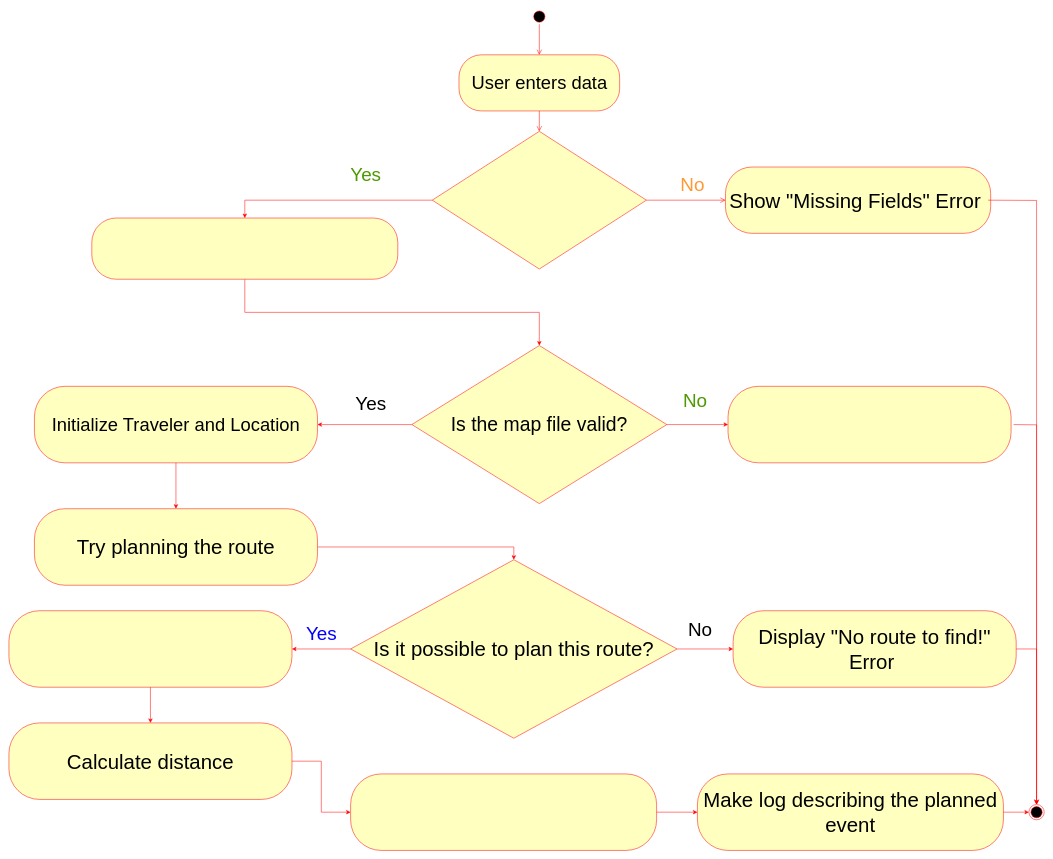
Image size: 1053x859. Some labels were removed from this diagram. Here are the shapes that lost their labels. From the top down, the centre of each, then its label:
point (539, 200): Are the main fields valid?
point (244, 248): Load the map from the map file
point (869, 424): Show File-Related Errors
point (150, 648): Find shortest path
point (503, 811): Display route and distance through message
